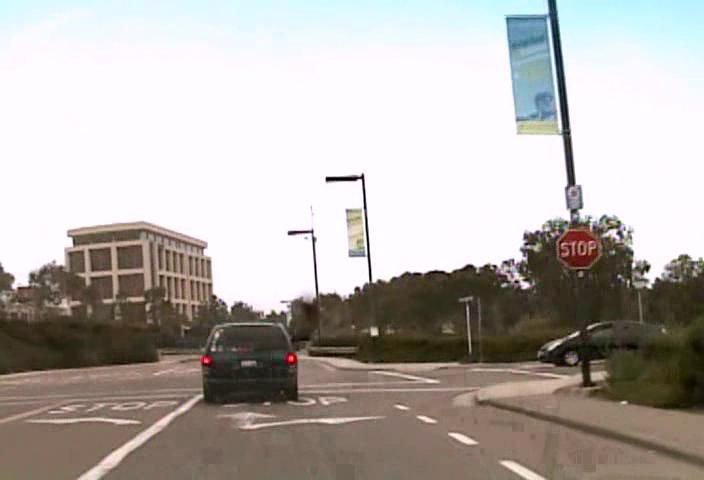stop: (556, 228, 602, 269)
